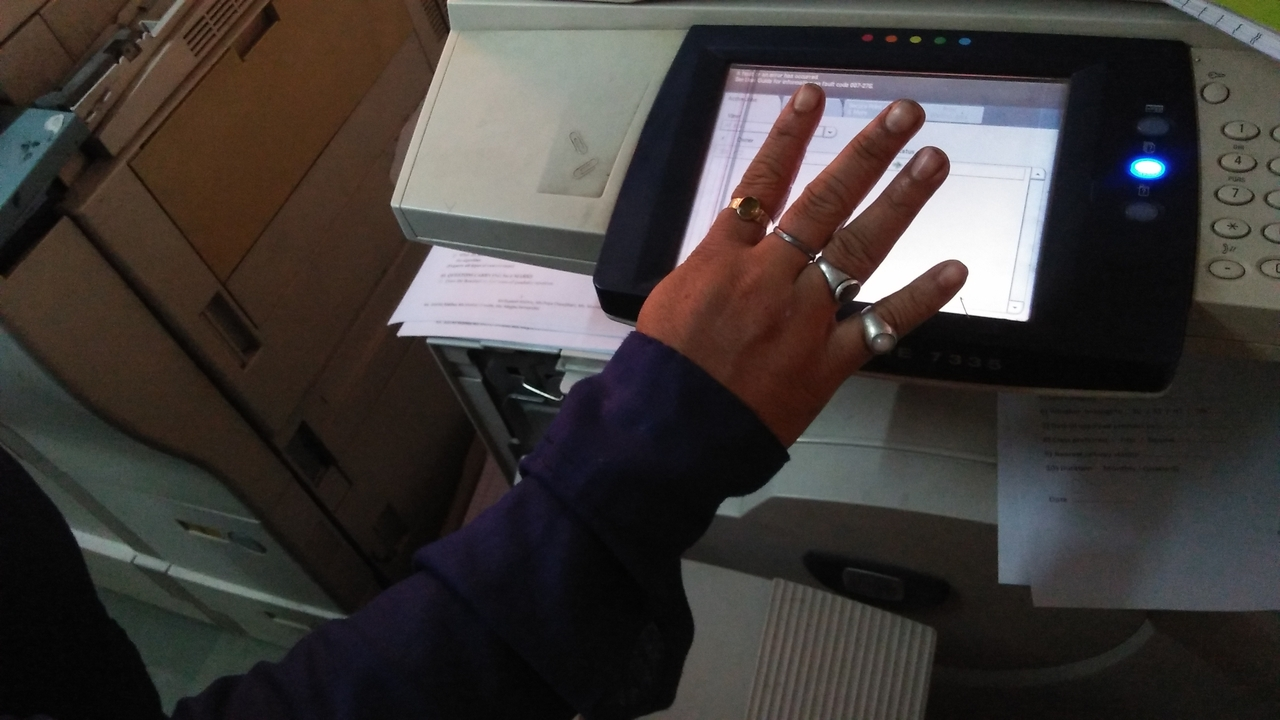fingertip: (896, 130, 956, 188), (868, 86, 934, 138), (776, 68, 838, 116), (929, 247, 973, 300)
